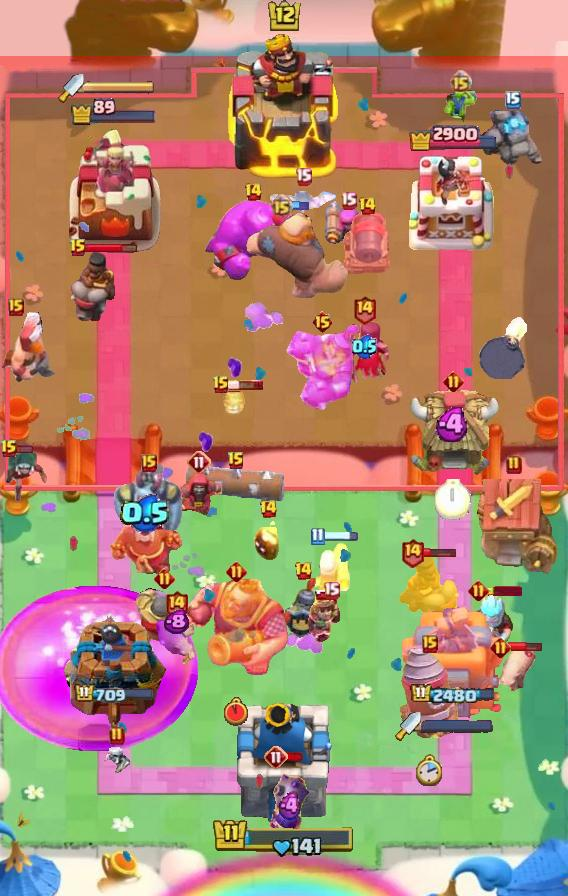bandit: (0, 447, 50, 501)
bar: (85, 243, 138, 254), (322, 530, 359, 542), (228, 379, 264, 391), (508, 641, 543, 653), (422, 546, 457, 558), (486, 586, 522, 596), (286, 751, 305, 763), (291, 200, 310, 211), (15, 444, 34, 454)
bar-level: (164, 589, 189, 620), (400, 537, 425, 568), (352, 294, 377, 325), (264, 745, 288, 769), (187, 450, 211, 474), (311, 310, 334, 334), (270, 194, 293, 217), (449, 70, 472, 93), (490, 637, 511, 658), (468, 580, 489, 601), (154, 568, 175, 589), (226, 561, 247, 582), (443, 371, 464, 392), (294, 561, 313, 581), (259, 499, 278, 519), (358, 196, 377, 216), (244, 182, 263, 202), (227, 451, 245, 471), (0, 439, 18, 459), (212, 375, 230, 395), (69, 238, 87, 258), (323, 581, 340, 600), (340, 191, 357, 210), (295, 167, 312, 186), (109, 726, 125, 746), (506, 455, 522, 475), (422, 635, 438, 653), (141, 454, 157, 472), (8, 298, 24, 316), (505, 91, 521, 109), (310, 527, 325, 546)
bat-evolution: (268, 187, 338, 217)
bomb: (478, 317, 530, 379)
bomber-evolution: (266, 757, 314, 853)
clock: (435, 479, 471, 520), (416, 754, 444, 788), (224, 697, 248, 726)
dagger-duchess-tower: (399, 607, 507, 731), (64, 124, 164, 256)
dagger-duchess-tower-bar: (421, 719, 493, 733), (84, 80, 156, 94)
elixir: (120, 494, 171, 533), (435, 407, 472, 442), (276, 791, 305, 821), (163, 609, 189, 635), (352, 334, 377, 359)
fire-spirit: (252, 519, 284, 563)
firecracker: (323, 198, 373, 252), (310, 540, 352, 598)
goblin: (442, 85, 478, 125)
golemite: (480, 110, 546, 172)
guard: (284, 577, 322, 639)
hog: (150, 618, 202, 668), (493, 643, 539, 695)
ice-wizard: (467, 589, 515, 653)
king-tower: (226, 33, 342, 181), (235, 703, 333, 826)
king-tower-bar: (212, 817, 356, 859)
knight: (134, 587, 195, 649)
lava-pup: (223, 386, 245, 416)
little-prince: (306, 590, 357, 646)
lumberjack: (0, 312, 58, 384)
mega-minion: (112, 462, 186, 530)
night-witch: (336, 319, 392, 389)
queen-tower: (62, 612, 166, 731), (407, 150, 499, 256)
ram-rider: (397, 553, 463, 629), (65, 249, 117, 323)
skeleton: (104, 745, 130, 774)
the-log: (185, 465, 287, 501)
tower-bar: (408, 123, 499, 151), (70, 98, 158, 126), (410, 683, 496, 706), (74, 683, 155, 705)
wizard: (174, 472, 224, 522)
